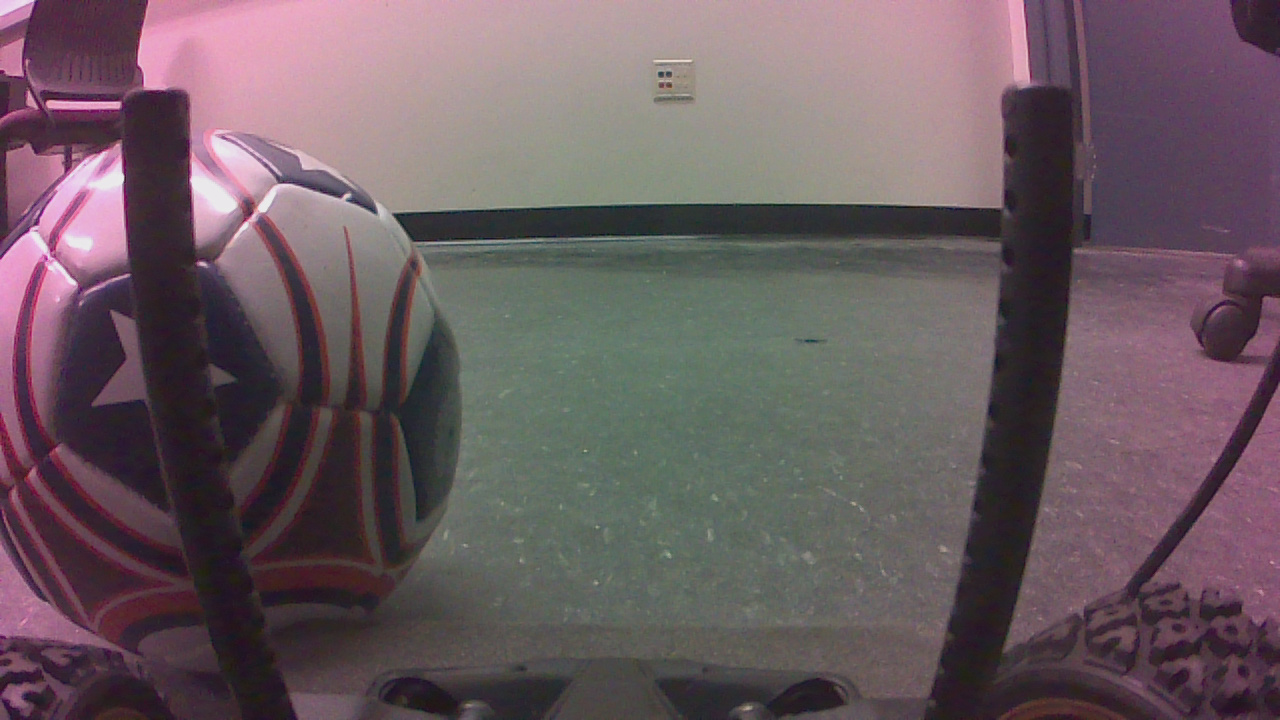ball: (5, 119, 472, 669)
